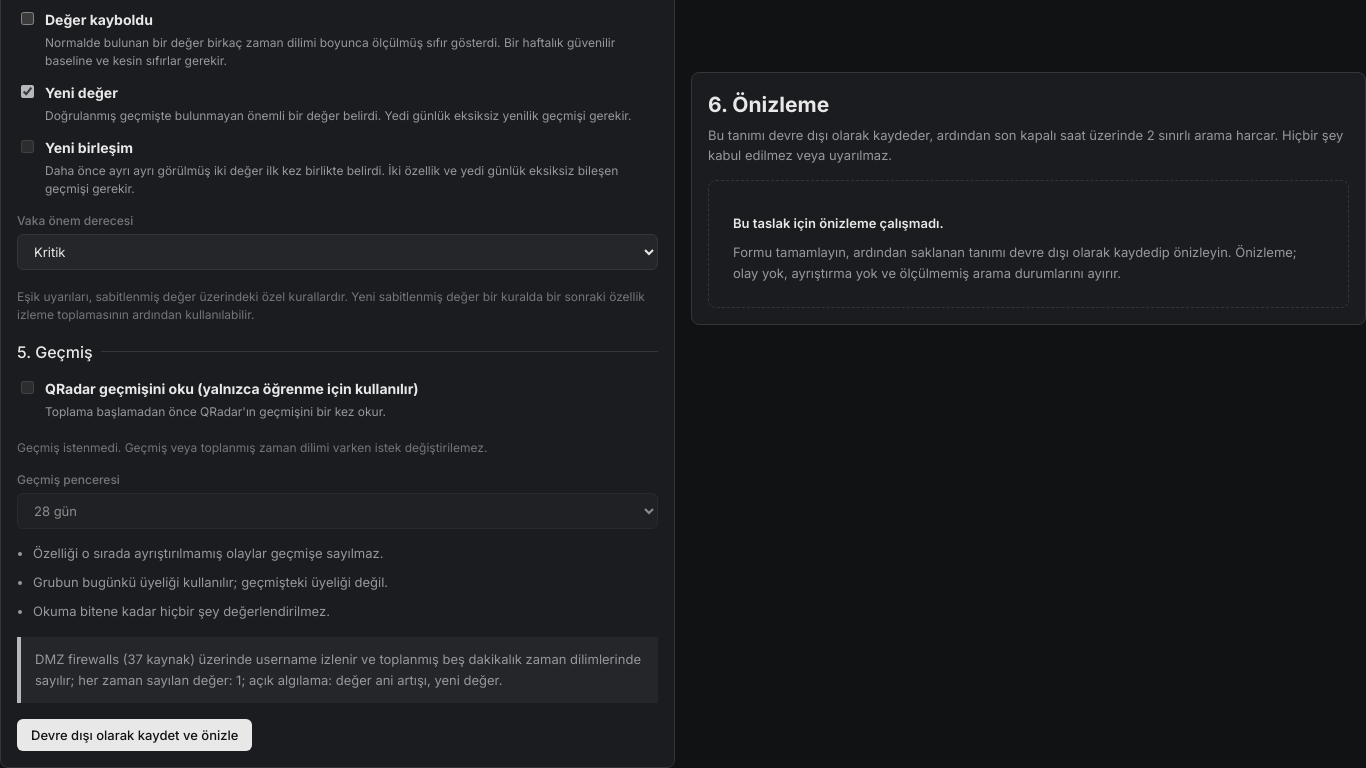
Test: a refused draft › shows the editor's server reasons in Turkish
The image size is (1366, 768).
(page scrolled)
Click the button "Devre dışı olarak kaydet ve önizle".
click(135, 735)  # box [17,719,252,751]
(page scrolled)
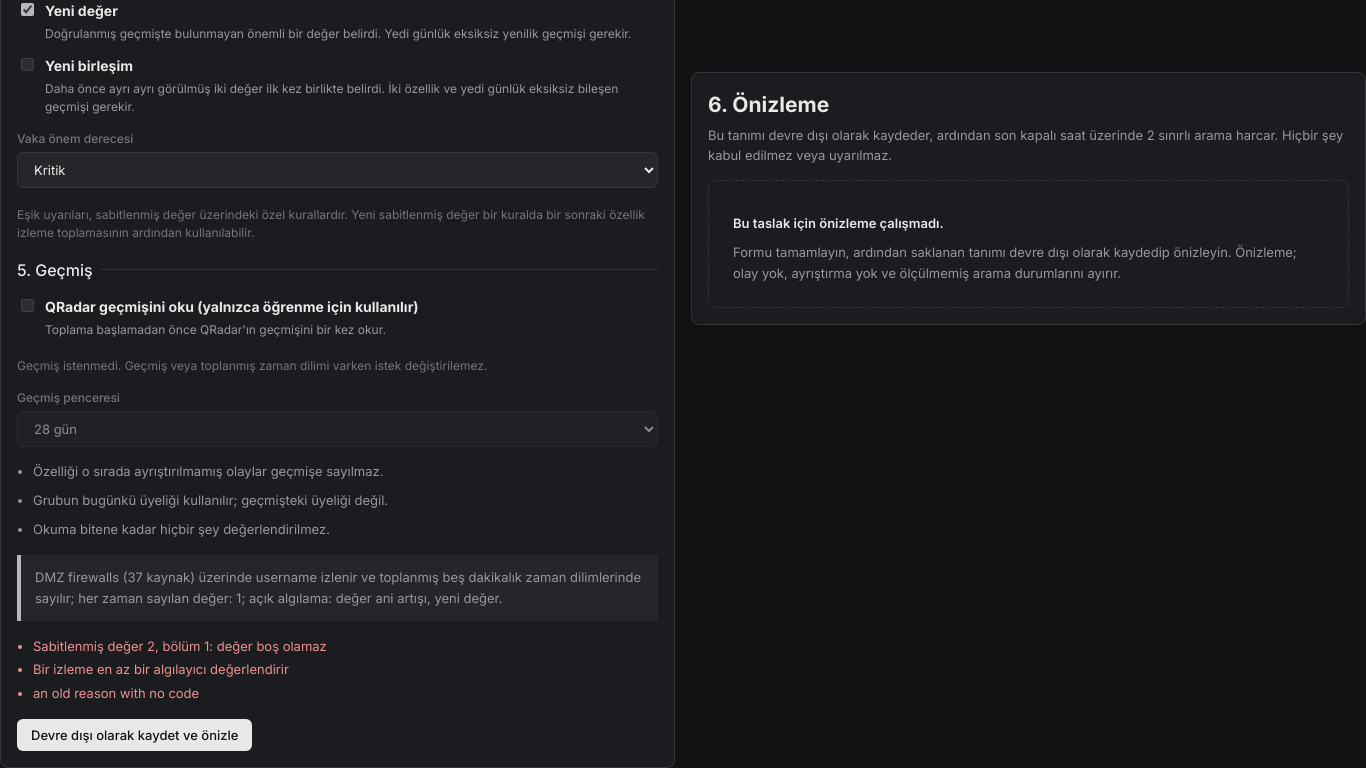
Now the list item "Sabitlenmiş değer 2, bölüm 1: değer boş olamaz" is shown, box [33,638,327,654]
Now the list item "an old reason with no code" is shown, box [33,685,199,701]
